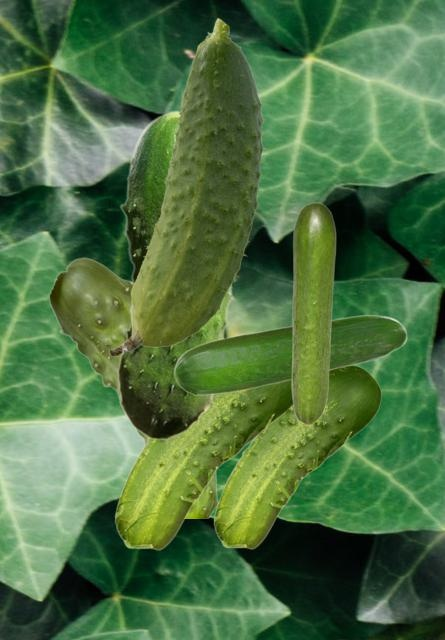cucumber: (109, 18, 264, 355), (48, 257, 218, 517), (117, 110, 238, 439), (213, 365, 380, 548), (114, 381, 292, 549), (173, 314, 406, 395), (291, 202, 335, 424)
